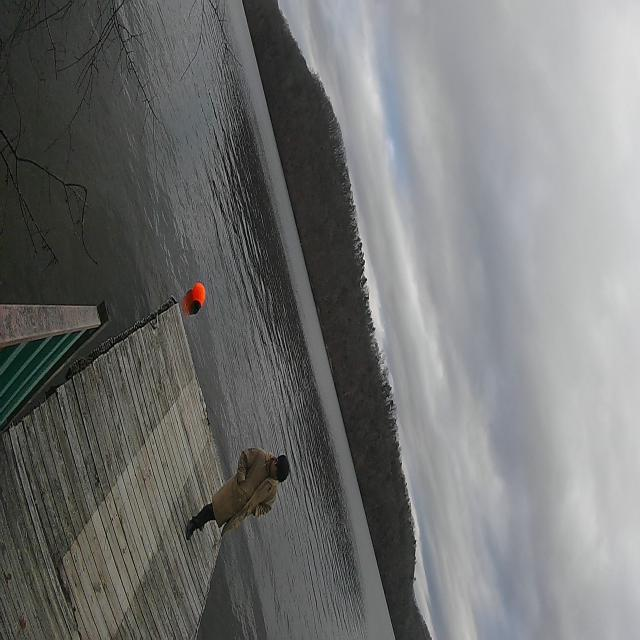Buoy: (189, 277, 208, 322)
